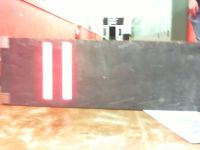switch: (61, 41, 73, 100), (42, 41, 53, 100)
